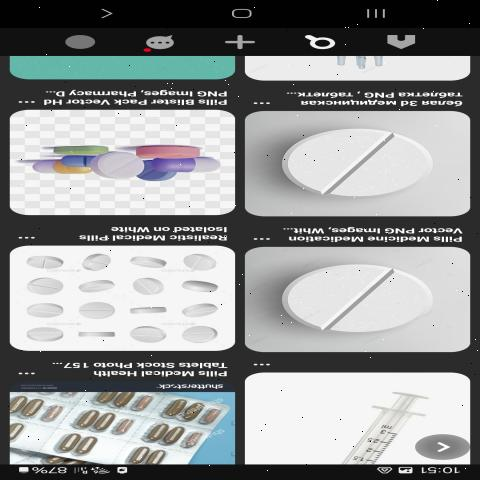Pill: (262, 255, 451, 346), (275, 125, 449, 206), (92, 146, 142, 182), (69, 298, 129, 320), (175, 276, 224, 302), (122, 322, 171, 348), (70, 249, 122, 273), (117, 274, 169, 297), (176, 300, 218, 326), (25, 319, 67, 344), (124, 252, 171, 274), (19, 250, 60, 275), (179, 324, 220, 348), (71, 274, 109, 298), (181, 250, 216, 274), (16, 275, 62, 293)
